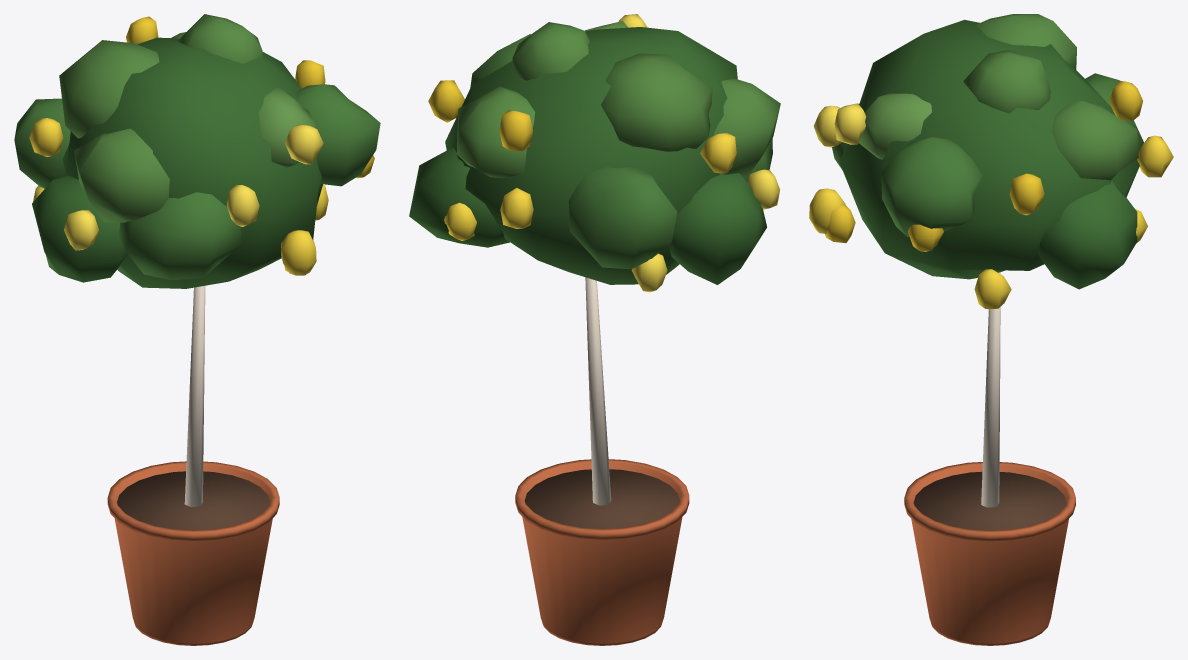
File: lemonTree.glb
The picture shows the model from 3 angles, left to right: view 1: azimuth 30°, elevation 25°; view 2: azimuth 150°, elevation 25°; view 3: azimuth 270°, elevation 25°; orthographic projection.
Parts seen in each view (by area): view 1: lemonTree, lemon_fruit; view 2: lemonTree, lemon_fruit; view 3: lemonTree, lemon_fruit.
Boxes of the visible parts, x1,y1,x2,y2 form: lemonTree: (14, 14, 380, 645); lemon_fruit: (29, 16, 374, 275); lemonTree: (409, 21, 780, 645); lemon_fruit: (428, 14, 779, 292); lemonTree: (832, 14, 1143, 645); lemon_fruit: (809, 80, 1173, 309).
Bounding box in the file's own units: 1.29 × 2.37 × 1.34.
